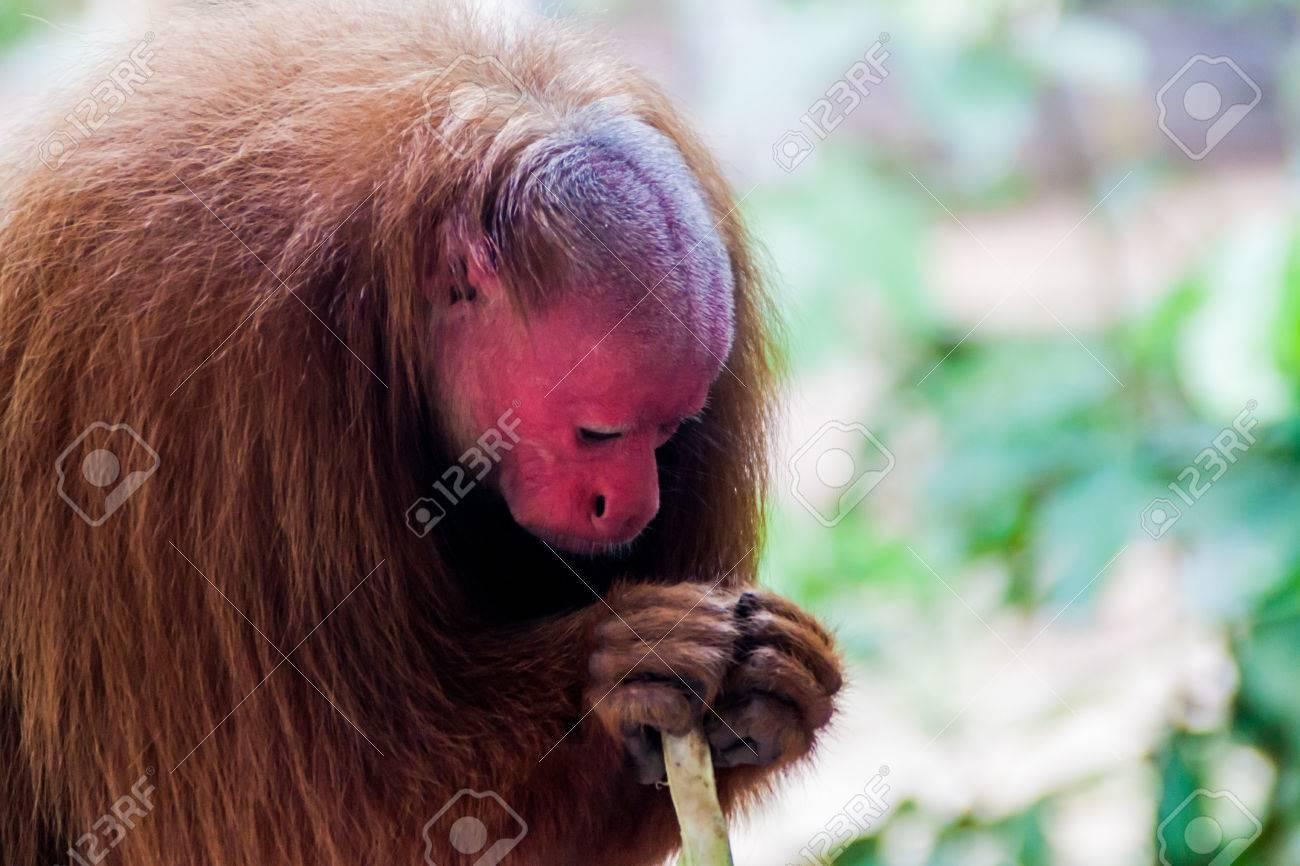monkey: (0, 3, 844, 866)
